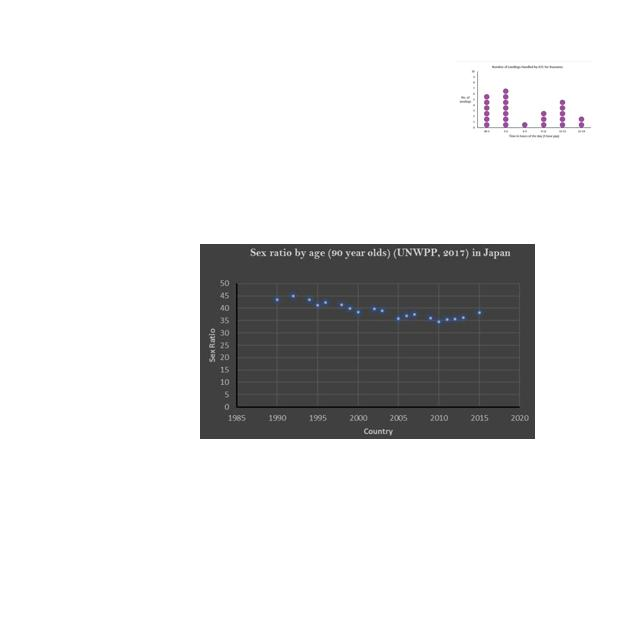Graph: (200, 244, 535, 439), (455, 61, 594, 142)
